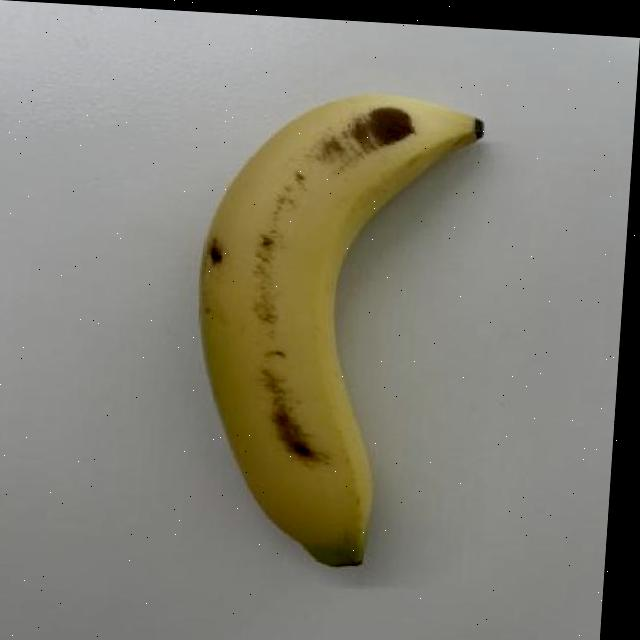banana: (169, 68, 502, 582)
